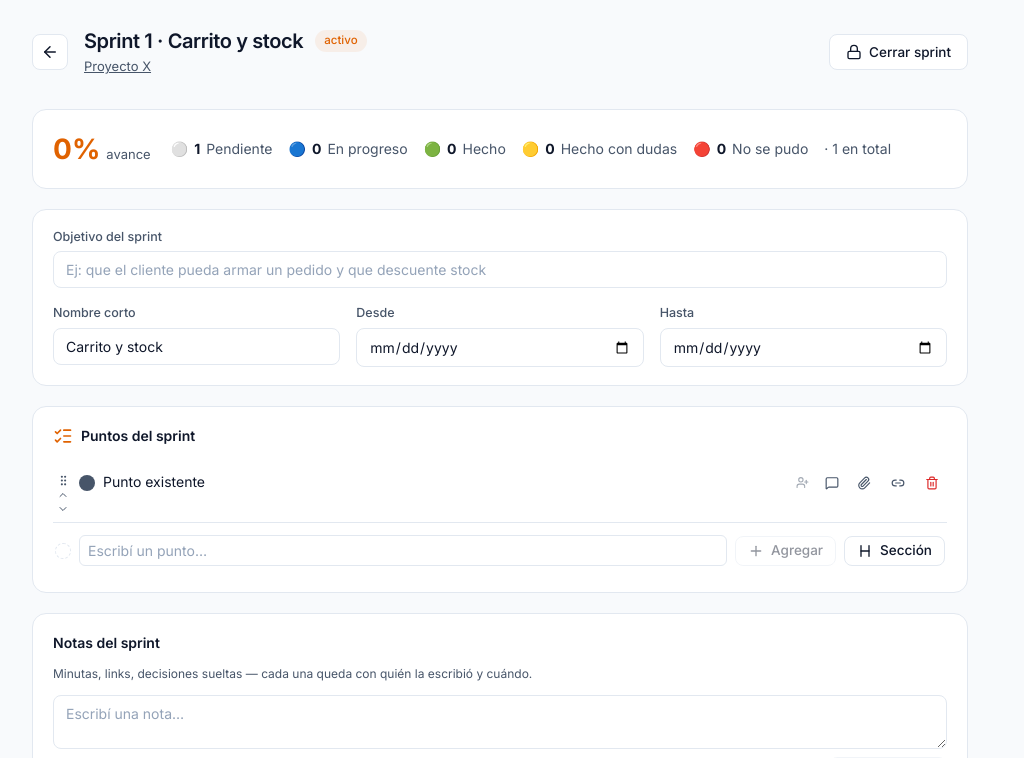
Test: SprintDetalle — secciones › "Sección" crea un título de sección al final del sprint
Expected: the text "Punto existente" is shown, [103,473,205,490]
What coordinates should you click on to do the following:
click the button "Sección"
I would click on:
 (895, 550)
Its box is [844,536,945,566].
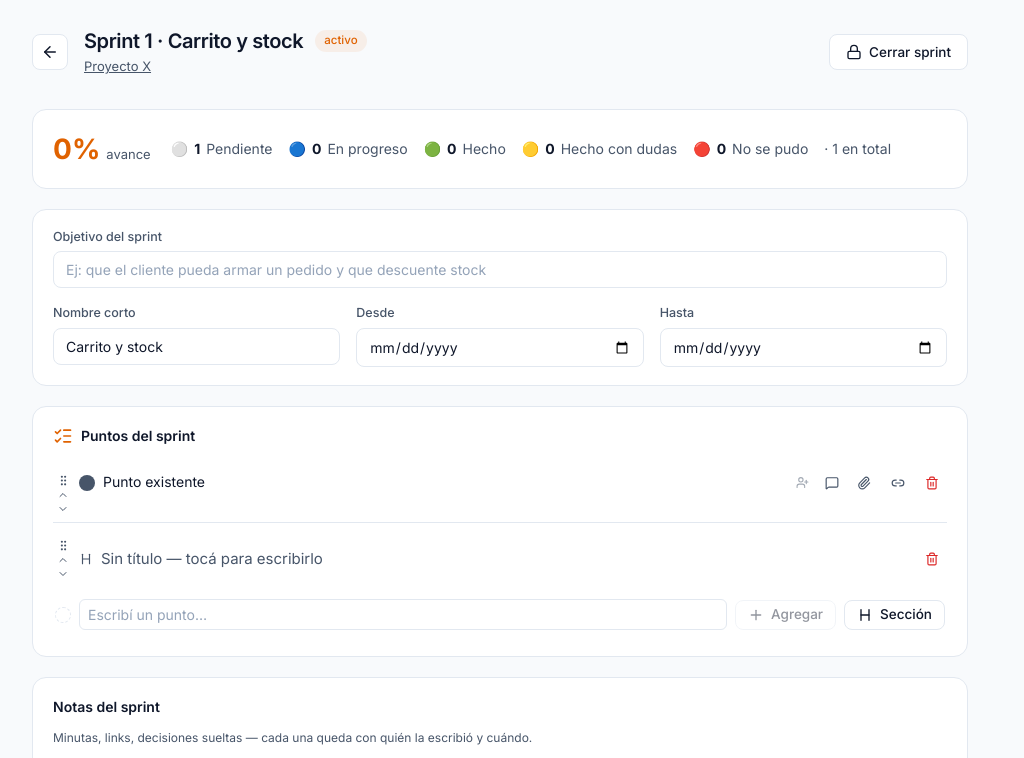
Expected: the text "Sin título — tocá para escribirlo" is shown, [101,549,323,568]
